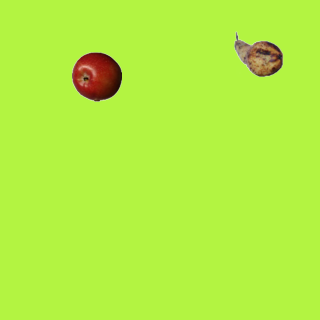Apple Braeburn: (71, 51, 121, 101)
Pear Abate: (233, 29, 283, 79)
